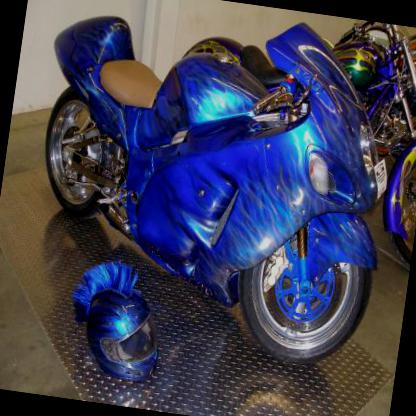motorcycle: (14, 0, 411, 373), (156, 0, 415, 269), (356, 21, 415, 164)
